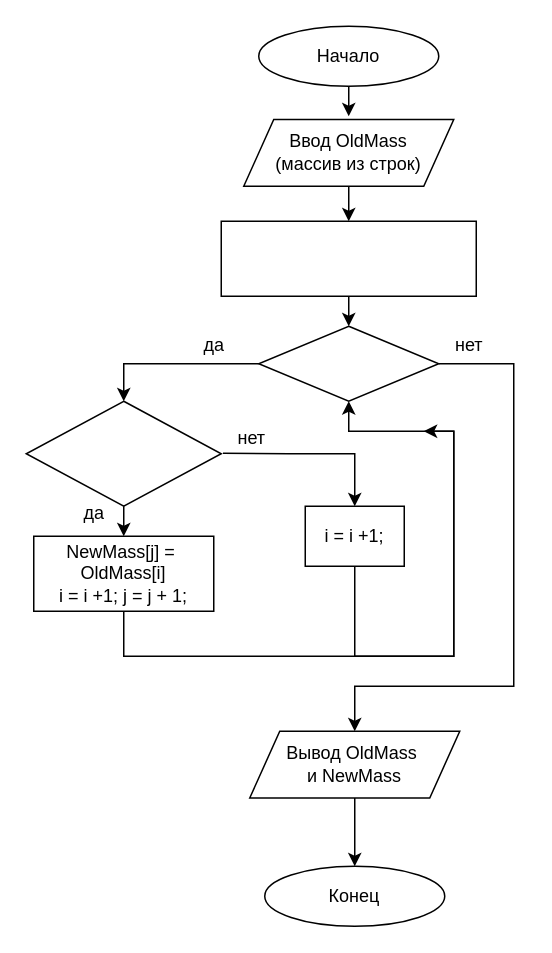
The diagram is 552 pixels wide and 953 high, and some of its shapes have lost their labels. Here are the shapes that lost their labels. From the top down, the centre of each, then its label:
At point 348,258: "NewMass L = длинна массива OldMass; j = 0; i=0;".
At point 348,363: "i<L".
At point 123,453: "Длина строки OldMass[i] < 3".
